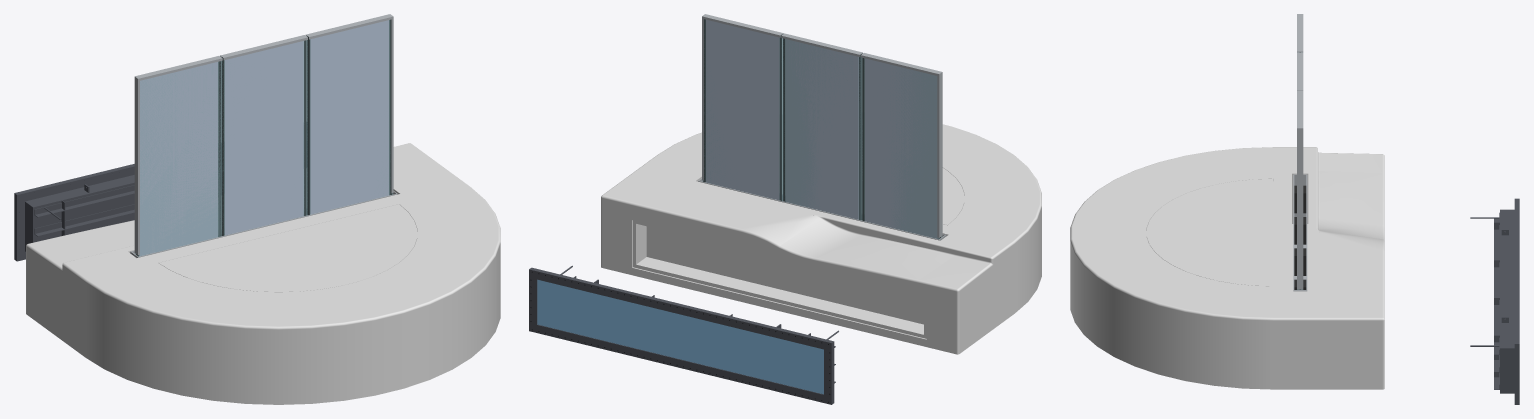
The model's file is garde-corps_B.glb.
3 renders of one model, left to right at view 1: azimuth 30°, elevation 25°; view 2: azimuth 150°, elevation 25°; view 3: azimuth 270°, elevation 25°, orthographic. The views are drawn at different scales.
Visible parts, largest first — view 1: socle, verre_avant_88.2_trempe_extraclair_AR_2, verre_avant_88.2_trempe_extraclair_AR_3, verre_avant_88.2_trempe_extraclair_AR_1, lenticulaire_PETG_6mm_clair_pince_3, lenticulaire_PETG_6mm_clair_pince_2, lenticulaire_PETG_6mm_clair_pince_1, rose, caisson_tole_U_316L_3mm, cadre_plat_60x10_316L, encadrement_U_inox_316L_gauche_1, corniere_dos_40x40x4_z150 (+8 smaller); view 2: socle, verre_66.2_extraclair_AR, verre_arriere_88.2_trempe_extraclair_AR_2, verre_arriere_88.2_trempe_extraclair_AR_3, verre_arriere_88.2_trempe_extraclair_AR_1, lenticulaire_PETG_6mm_clair_pince_3, lenticulaire_PETG_6mm_clair_pince_2, lenticulaire_PETG_6mm_clair_pince_1, longeron_60x24_battee_onglet_haut, longeron_60x24_battee_onglet_bas, rose, encadrement_U_inox_316L_gauche_1 (+10 smaller); view 3: socle, rose, caisson_tole_U_316L_3mm, encadrement_U_inox_316L_droite_3, corniere_dos_40x40x4_z280, auge_U_inox_316L_ep6_drainee, longeron_60x24_battee_onglet_haut, cadre_plat_60x10_316L.
Boxes of the visible parts, bbox=[...] form: socle: bbox=[26, 143, 500, 404]; verre_avant_88.2_trempe_extraclair_AR_2: bbox=[222, 40, 307, 235]; verre_avant_88.2_trempe_extraclair_AR_3: bbox=[307, 20, 393, 214]; verre_avant_88.2_trempe_extraclair_AR_1: bbox=[137, 61, 222, 256]; lenticulaire_PETG_6mm_clair_pince_3: bbox=[310, 20, 388, 214]; lenticulaire_PETG_6mm_clair_pince_2: bbox=[225, 41, 303, 235]; lenticulaire_PETG_6mm_clair_pince_1: bbox=[139, 62, 217, 255]; rose: bbox=[159, 204, 417, 292]; caisson_tole_U_316L_3mm: bbox=[25, 175, 134, 251]; cadre_plat_60x10_316L: bbox=[16, 165, 134, 261]; encadrement_U_inox_316L_gauche_1: bbox=[134, 77, 139, 254]; corniere_dos_40x40x4_z150: bbox=[34, 204, 134, 236]; socle: bbox=[601, 115, 1041, 354]; verre_66.2_extraclair_AR: bbox=[537, 279, 823, 394]; verre_arriere_88.2_trempe_extraclair_AR_2: bbox=[781, 38, 860, 219]; verre_arriere_88.2_trempe_extraclair_AR_3: bbox=[702, 19, 781, 200]; verre_arriere_88.2_trempe_extraclair_AR_1: bbox=[861, 57, 940, 239]; lenticulaire_PETG_6mm_clair_pince_3: bbox=[706, 19, 778, 199]; lenticulaire_PETG_6mm_clair_pince_2: bbox=[785, 39, 858, 219]; lenticulaire_PETG_6mm_clair_pince_1: bbox=[865, 58, 937, 238]; longeron_60x24_battee_onglet_haut: bbox=[529, 268, 832, 349]; longeron_60x24_battee_onglet_bas: bbox=[529, 324, 831, 404]; rose: bbox=[782, 149, 964, 225]; encadrement_U_inox_316L_gauche_1: bbox=[937, 72, 942, 237]; socle: bbox=[1070, 147, 1384, 389]; rose: bbox=[1146, 178, 1273, 286]; caisson_tole_U_316L_3mm: bbox=[1500, 209, 1514, 393]; encadrement_U_inox_316L_droite_3: bbox=[1297, 128, 1303, 289]; corniere_dos_40x40x4_z280: bbox=[1494, 212, 1499, 354]; auge_U_inox_316L_ep6_drainee: bbox=[1293, 174, 1307, 291]; longeron_60x24_battee_onglet_haut: bbox=[1516, 198, 1519, 343]; cadre_plat_60x10_316L: bbox=[1514, 198, 1515, 404].
Bounding box in the file's own units: 2772 × 1834 × 3031.
